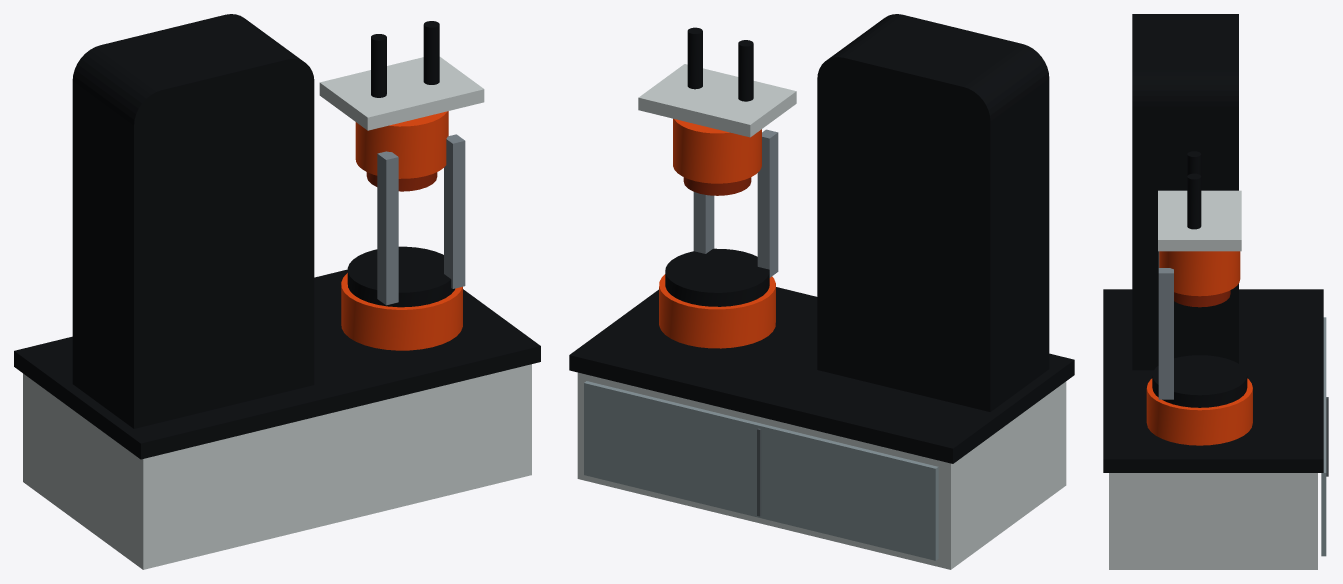
File: back_ring_measuring_booth.dae
3 renders of one model, left to right at view 1: azimuth 30°, elevation 25°; view 2: azimuth 150°, elevation 25°; view 3: azimuth 270°, elevation 25°, orthographic. The views are drawn at different scales.
Visible parts, largest first — view 1: back_ring_measuring_booth; view 2: back_ring_measuring_booth; view 3: back_ring_measuring_booth.
Part boxes in pixels (bbox=[...]): back_ring_measuring_booth: bbox=[14, 14, 540, 569]; back_ring_measuring_booth: bbox=[569, 14, 1074, 569]; back_ring_measuring_booth: bbox=[1103, 14, 1328, 569].
Size of the model in its own units: 1.44 by 0.808 by 1.59.
